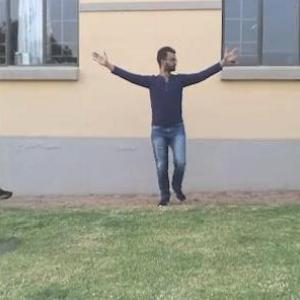takeoff: (102, 33, 262, 214)
